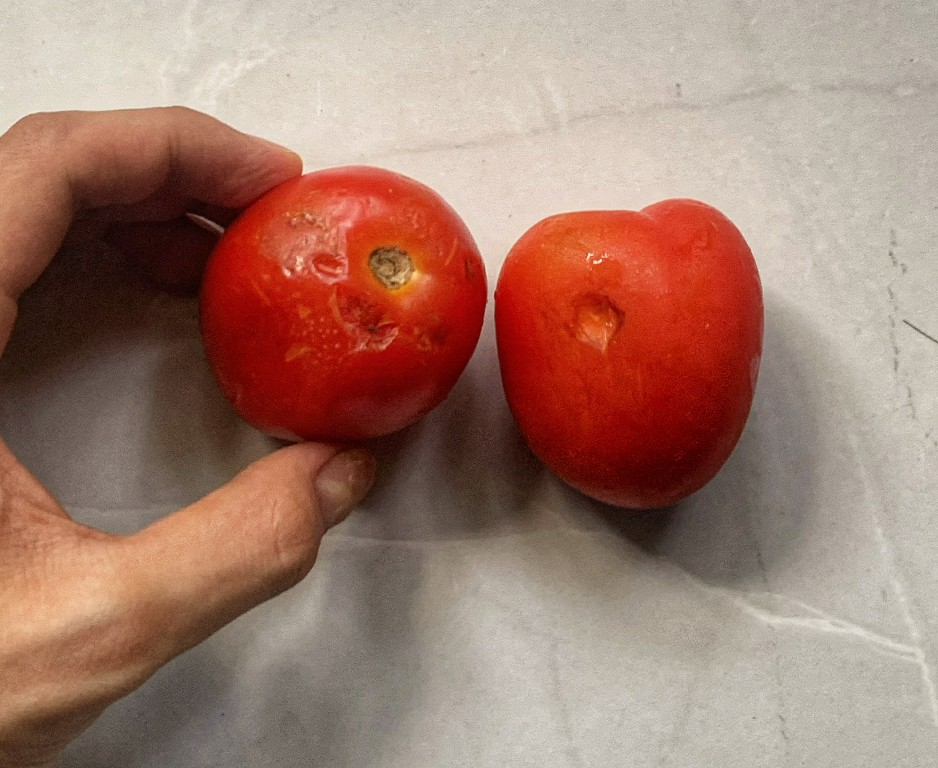NG: (198, 161, 489, 450), (501, 196, 764, 513)
